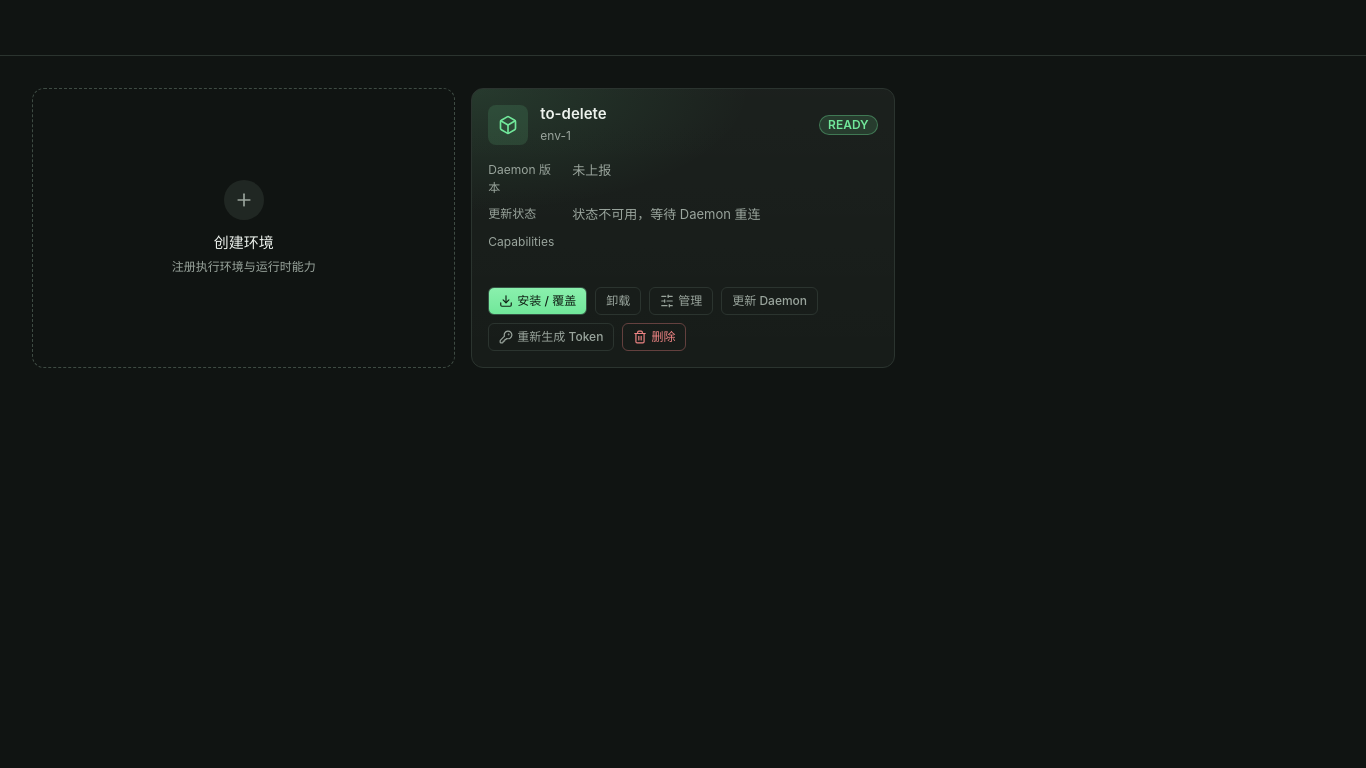
Test: EnvironmentsPage › shows visible error on delete failure and handles 409 conflict refresh
What coordinates should you click on to do the following:
click the button with aria-label "删除环境"
I would click on:
 (654, 337)
Its box is [622,323,686,351].
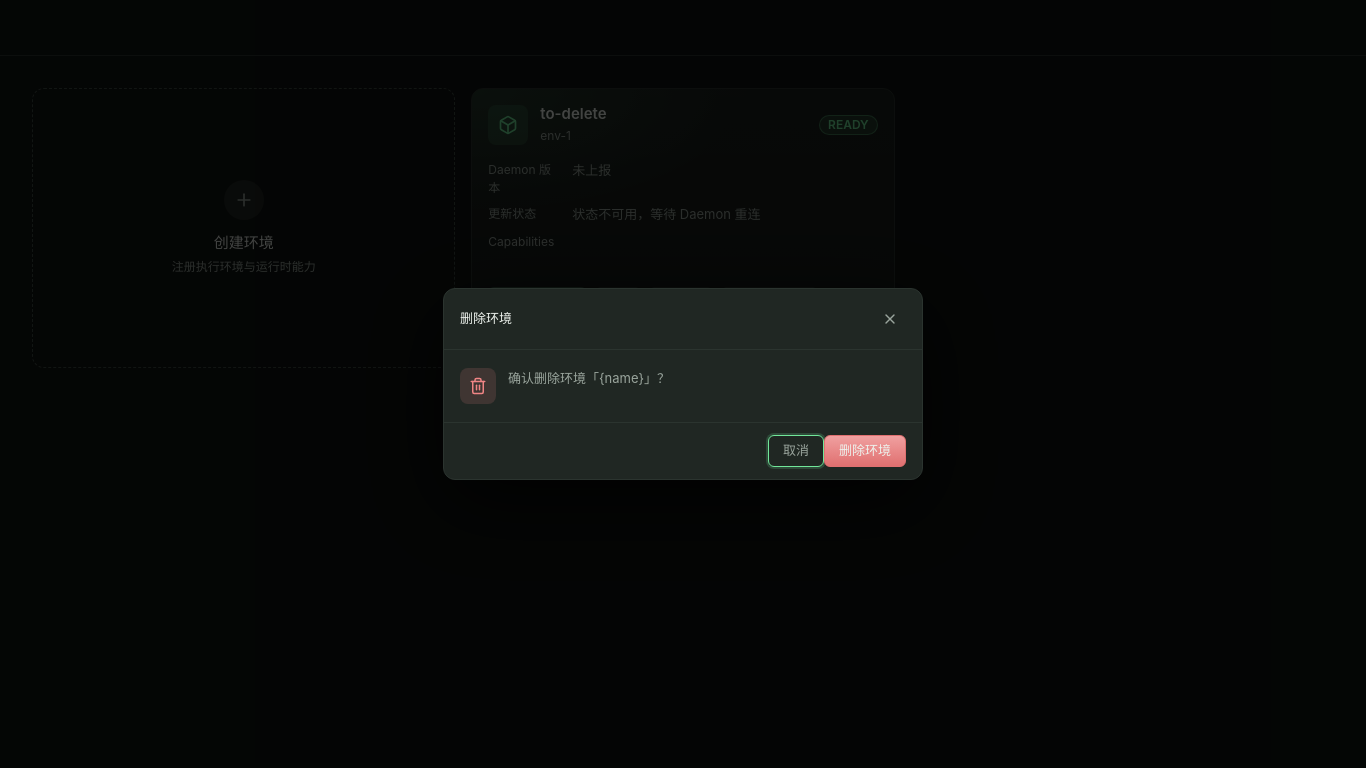
What coordinates should you click on to do the following:
click the button "删除环境"
I would click on:
 (865, 451)
Its box is [824,435,906,467].
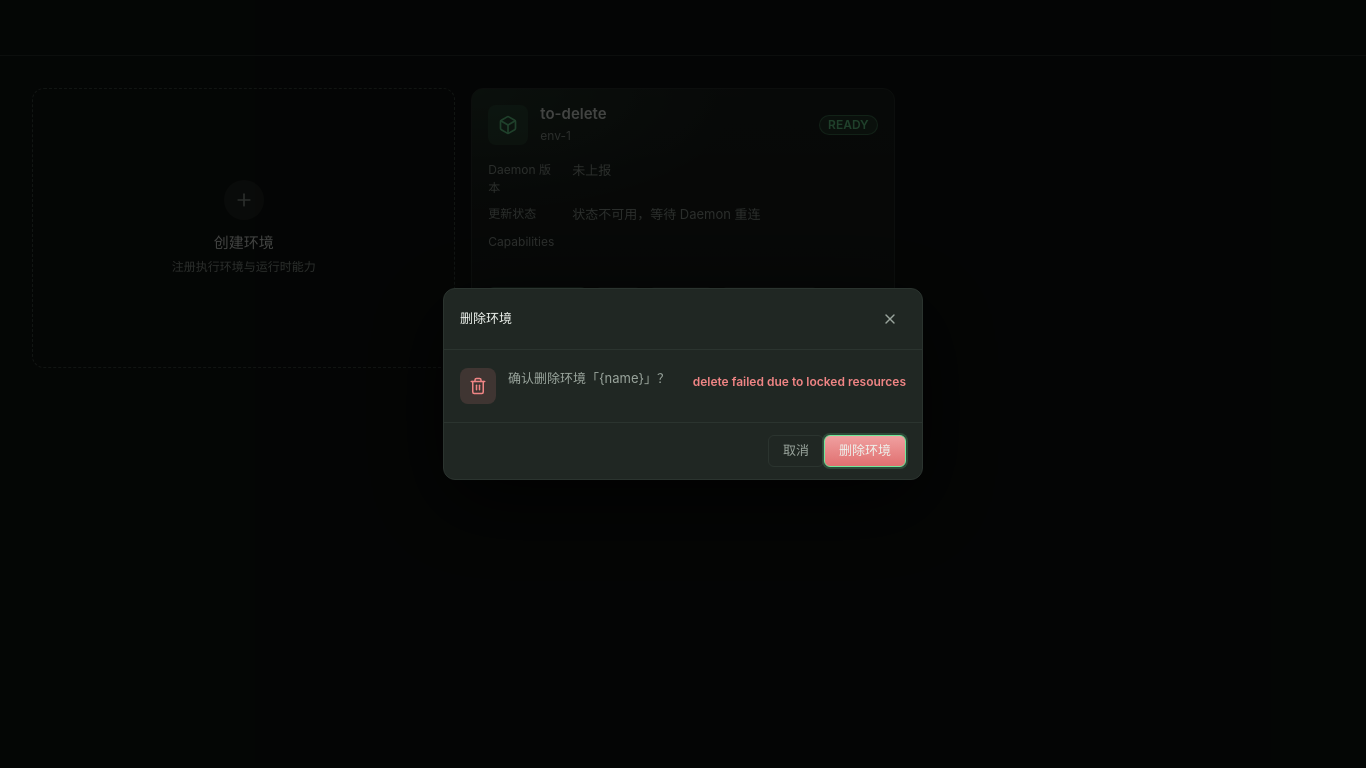
Now the message reads "delete failed due to locked resources", box [693,374,906,389]
What coordinates should you click on to do the following:
click the button "删除环境"
I would click on:
 (865, 451)
Its box is [824,435,906,467].
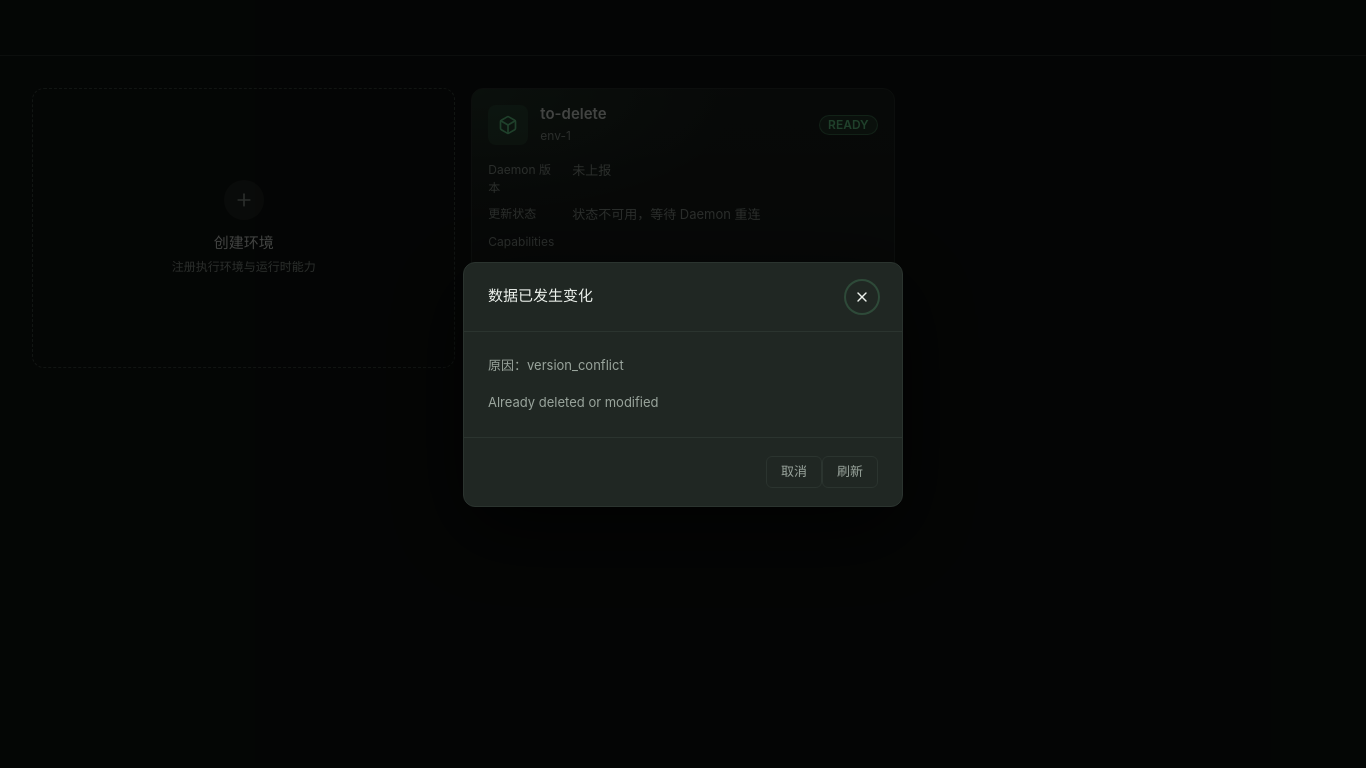
Now the text "原因：version_conflict" is shown, box [488,356,624,372]
Now the heading "删除环境" is gone
What coordinates should you click on to do the following:
click the button "刷新"
I would click on:
 (850, 472)
Its box is [822,456,878,488].
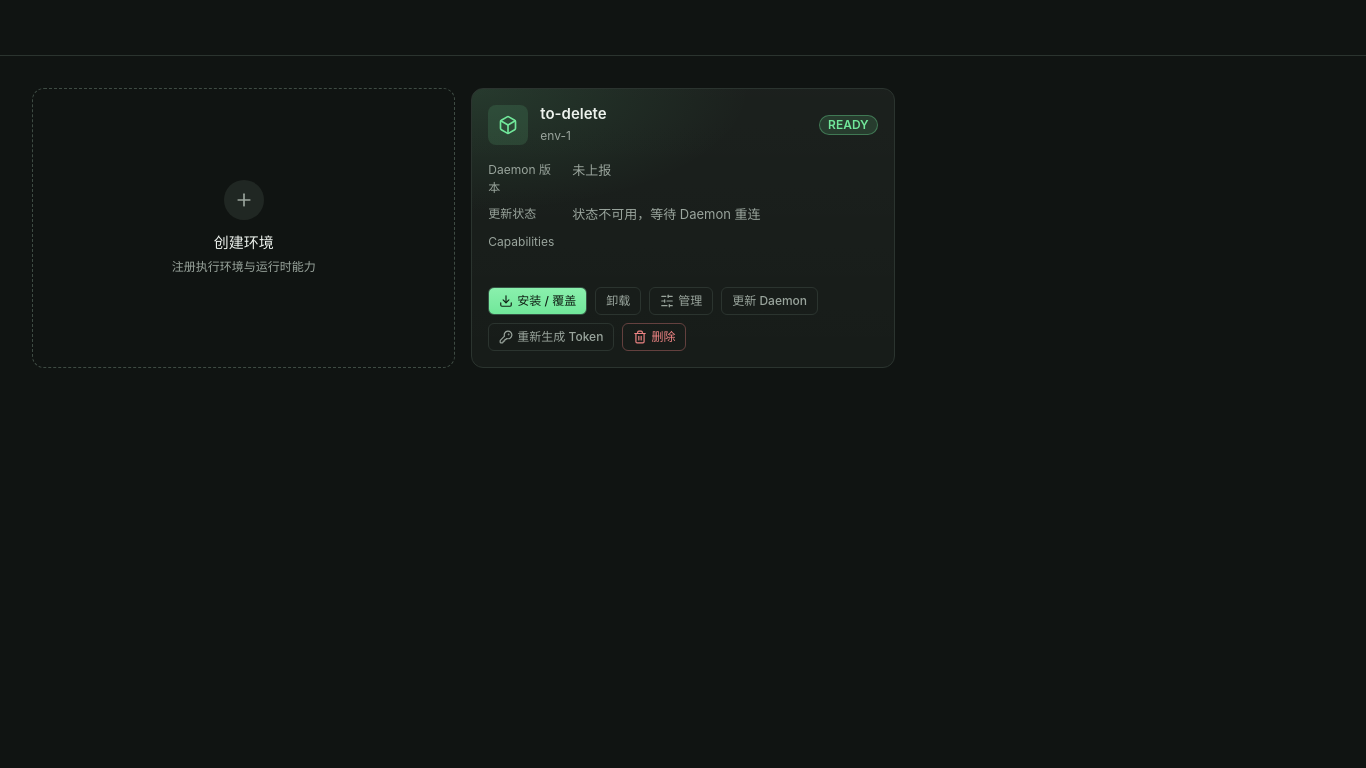
Now the heading "数据已发生变化" is gone
